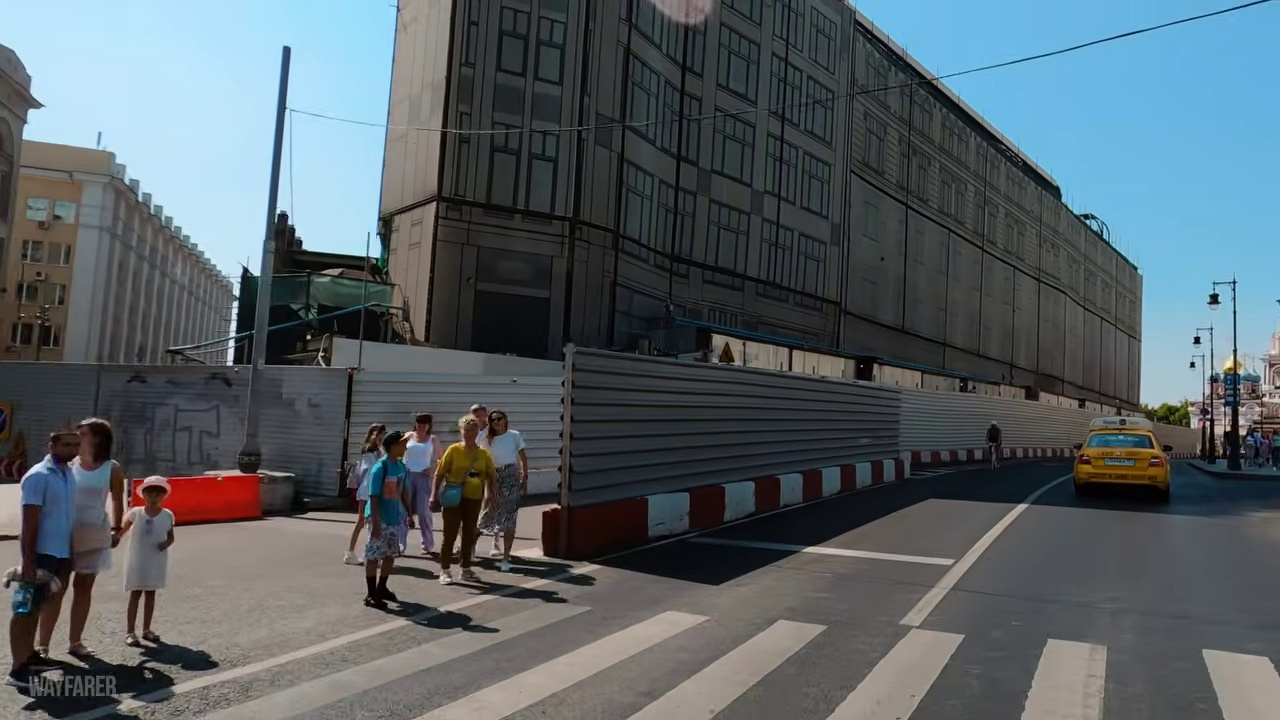apagada: (1199, 281, 1226, 320)
